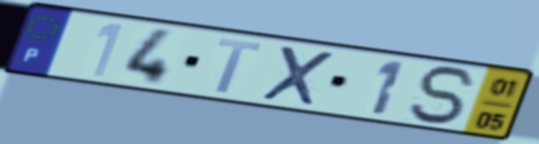1: (91, 21, 126, 79), (374, 60, 407, 118)
4: (119, 26, 178, 89)
S: (407, 64, 482, 127)
T: (212, 36, 266, 96)
X: (256, 43, 338, 109)
